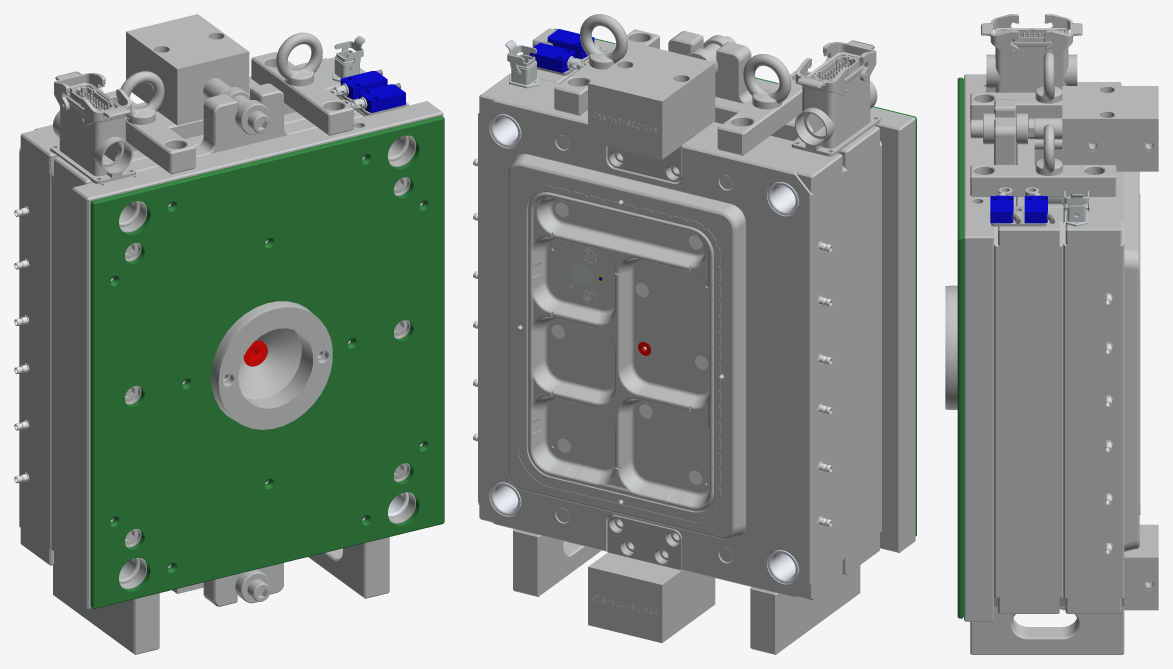
3 views of the same model, side by side, from view 1: azimuth 30°, elevation 25°; view 2: azimuth 150°, elevation 25°; view 3: azimuth 270°, elevation 25° (orthographic). The views are drawn at different scales.
Parts seen in each view (by area): view 1: Tepsi-kalibi, KES-EKSTRÜZYON7, MD_19628162273_101049625UGM000_B (×3), Switch-1 (×3), MD_09330162601_100095094UGM000_D; view 2: Tepsi-kalibi, KES-EKSTRÜZYON7 (×2), MD_19628162273_101049625UGM000_B (×3), Switch-1 (×3), MD_09330162601_100095094UGM000_D; view 3: Tepsi-kalibi, KES-EKSTRÜZYON7 (×2), MD_19628162273_101049625UGM000_B (×3), Switch-1 (×4), PAH3, MD_09330162601_100095094UGM000_D.
Boxes of the visible parts, x1,y1,x2,y2 form: Tepsi-kalibi: (14, 32, 444, 654); KES-EKSTRÜZYON7: (126, 14, 249, 125); MD_19628162273_101049625UGM000_B (×3): (50, 71, 135, 183); Switch-1 (×3): (331, 36, 405, 112); MD_09330162601_100095094UGM000_D: (70, 84, 114, 111); Tepsi-kalibi: (473, 14, 916, 654); KES-EKSTRÜZYON7 (×2): (588, 44, 715, 642); MD_19628162273_101049625UGM000_B (×3): (791, 40, 880, 156); Switch-1 (×3): (505, 29, 603, 88); MD_09330162601_100095094UGM000_D: (813, 54, 859, 81); Tepsi-kalibi: (945, 52, 1140, 654); KES-EKSTRÜZYON7 (×2): (1062, 86, 1158, 610); MD_19628162273_101049625UGM000_B (×3): (981, 14, 1082, 92); Switch-1 (×4): (990, 191, 1089, 226); PAH3: (1028, 118, 1062, 139); MD_09330162601_100095094UGM000_D: (999, 28, 1064, 41).
Bounding box in the file's own units: 0.496 × 0.7262 × 0.2747.
